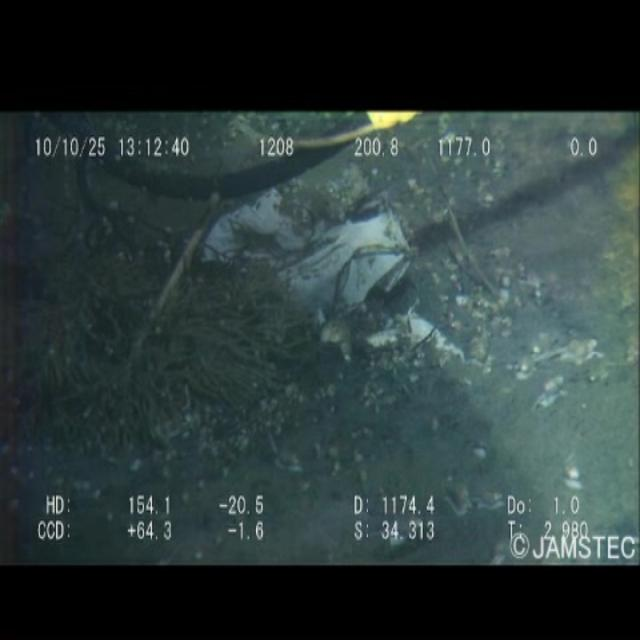Natual-Debris: (24, 156, 361, 472)
